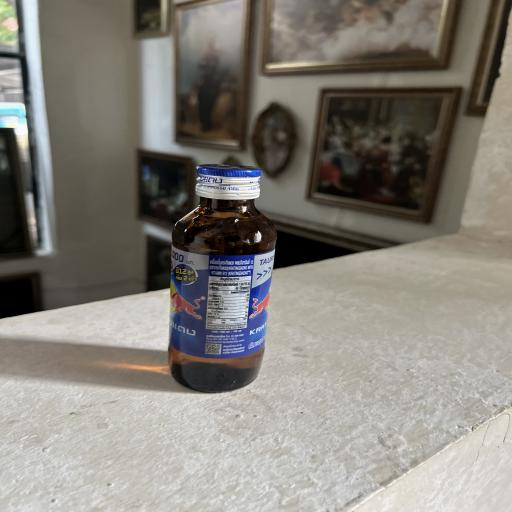bo_huc: (161, 160, 280, 392)
